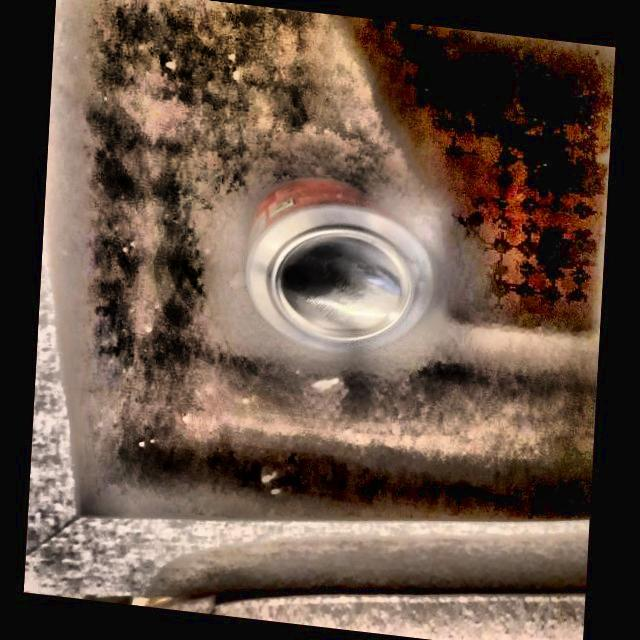coke-can: (246, 169, 440, 357)
